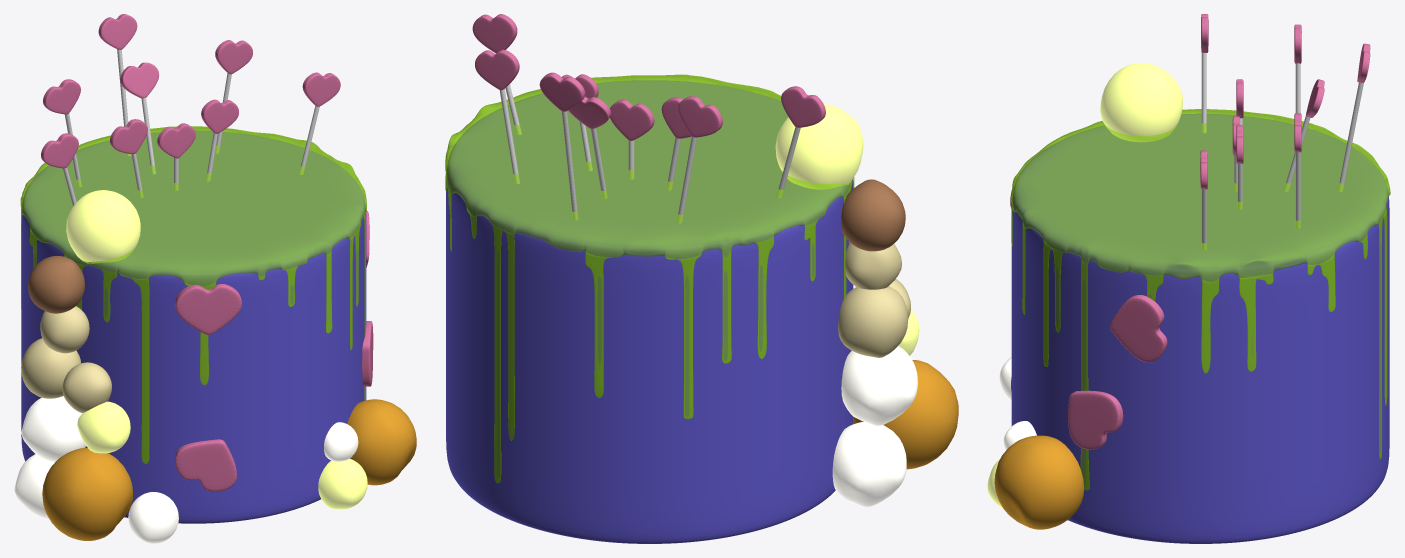
The model's file is Cake_Layer_1_Purple_Topper1_Hearts_GreenDrip.glb.
3 renders of one model, left to right at view 1: azimuth 30°, elevation 25°; view 2: azimuth 150°, elevation 25°; view 3: azimuth 270°, elevation 25°, orthographic. The views are drawn at different scales.
Visible parts, largest first — view 1: Circle, Circle.001, Sphere, Sphere.015, Sphere.026, Sphere.002, Sphere.006, Star.003, Star.002, Sphere.005, Sphere.003, Sphere.001 (+15 smaller); view 2: Circle, Circle.001, Sphere.015, Sphere.013, Sphere.002, Sphere, Sphere.005, Sphere.006, Sphere.010, Star.006, Star.005, Star.009 (+6 smaller); view 3: Circle, Circle.001, Sphere.026, Sphere.015, Star.001, Star.004, Cylinder.049, Sphere.027.
Part boxes in pixels (<box>): Circle: <box>21,131,366,523</box>; Circle.001: <box>20,126,366,463</box>; Sphere: <box>42,448,132,540</box>; Sphere.015: <box>66,190,140,263</box>; Sphere.026: <box>347,399,416,485</box>; Sphere.002: <box>21,396,85,462</box>; Sphere.006: <box>28,256,84,313</box>; Star.003: <box>175,284,241,334</box>; Star.002: <box>175,439,236,491</box>; Sphere.005: <box>21,338,80,398</box>; Sphere.003: <box>77,401,130,453</box>; Sphere.001: <box>128,492,178,543</box>; Circle: <box>446,80,853,543</box>; Circle.001: <box>445,74,854,483</box>; Sphere.015: <box>775,104,863,189</box>; Sphere.013: <box>832,421,906,507</box>; Sphere.002: <box>841,346,917,426</box>; Sphere: <box>853,360,958,469</box>; Sphere.005: <box>838,286,908,357</box>; Sphere.006: <box>841,179,905,251</box>; Sphere.010: <box>845,242,901,289</box>; Star.006: <box>678,96,722,137</box>; Star.005: <box>781,86,825,127</box>; Star.009: <box>475,49,519,90</box>; Circle: <box>1011,114,1389,543</box>; Circle.001: <box>1010,109,1390,490</box>; Sphere.026: <box>994,435,1083,529</box>; Sphere.015: <box>1100,63,1182,141</box>; Star.001: <box>1110,295,1167,362</box>; Star.004: <box>1068,390,1123,449</box>; Cylinder.049: <box>1338,82,1363,191</box>; Sphere.027: <box>1003,421,1036,450</box>.
Size of the model in its own units: 0.1763 by 0.1867 by 0.159.
